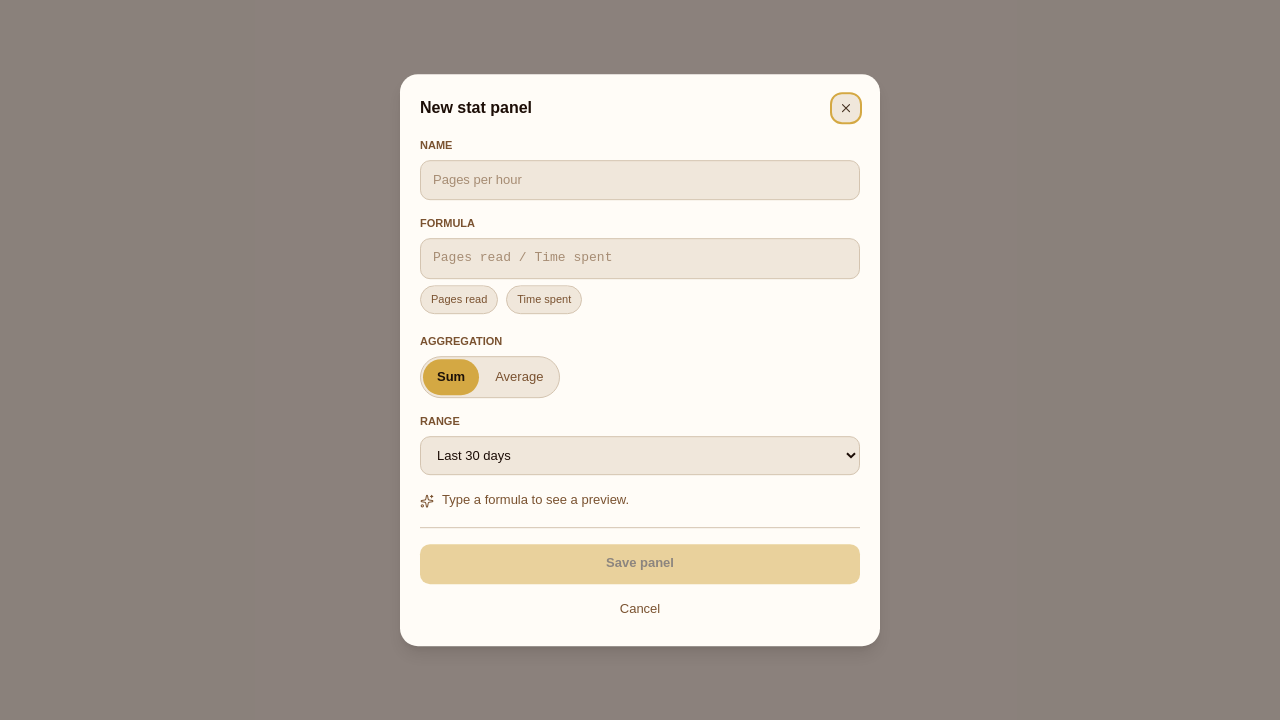
Test: StatPanelBuilderDialog › shows "No data yet" in the preview when no entries match
Type "Pages read" into the field labelled "Formula" at (640, 258), box [420,238,860,279]
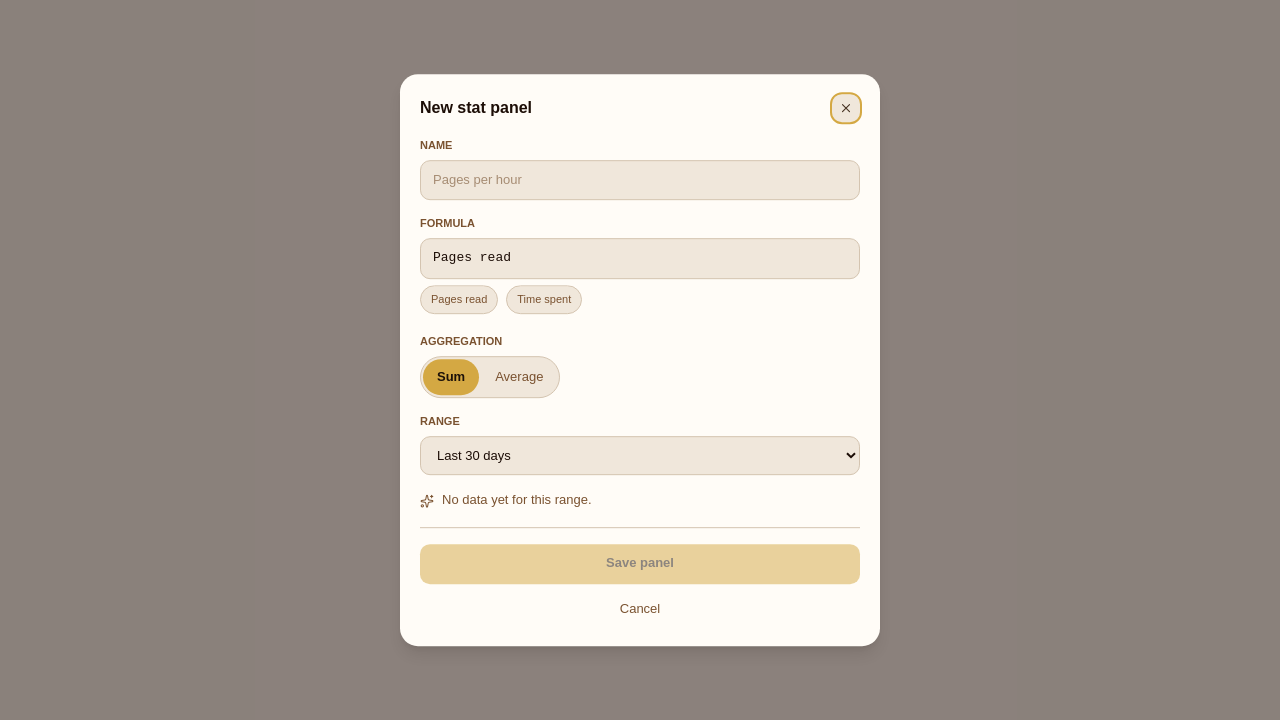
Now the text "No data yet for this range." is shown, box [442,492,592,510]
